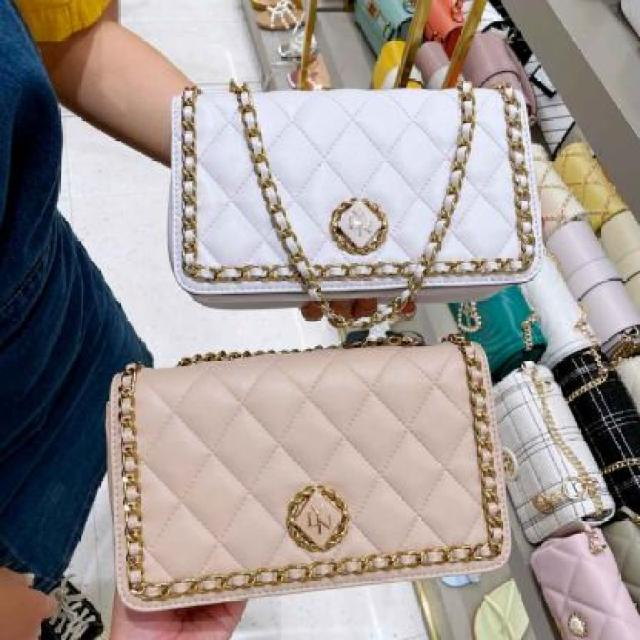Bag: (100, 338, 523, 622), (160, 62, 574, 347)
